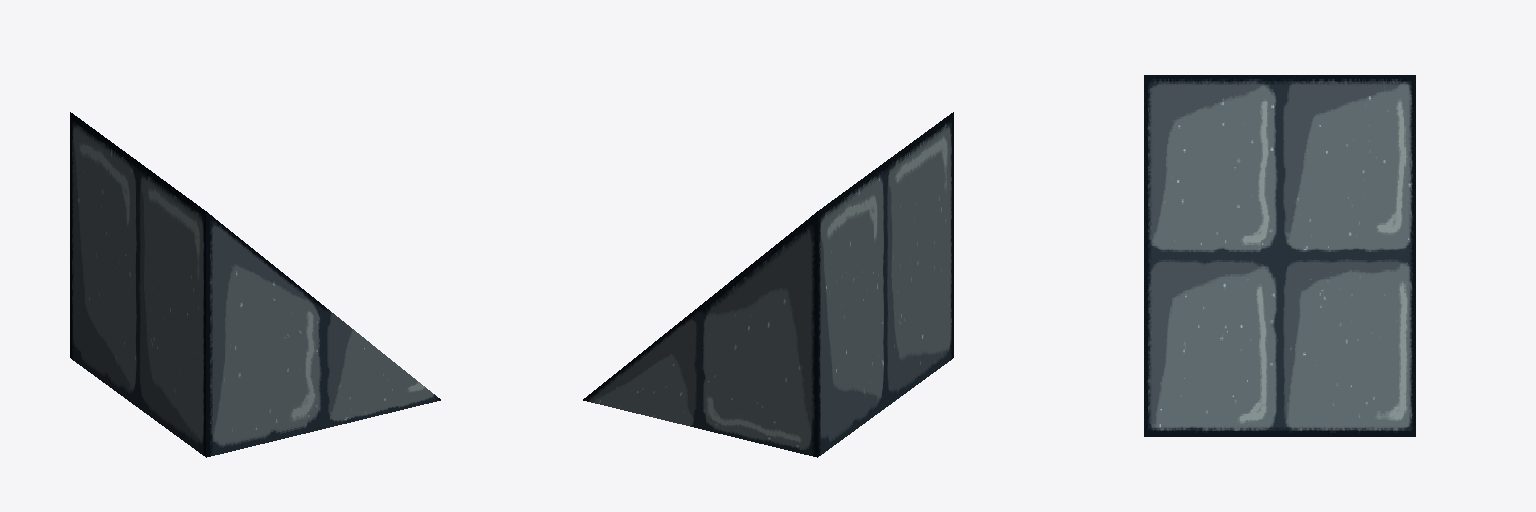
The picture shows the model from 3 angles: view 1: azimuth 30°, elevation 25°; view 2: azimuth 150°, elevation 25°; view 3: azimuth 270°, elevation 25°; orthographic projection.
Visible parts, largest first — view 1: 4_stone; view 2: 4_stone; view 3: 4_stone.
Boxes of the visible parts, x1,y1,x2,y2 form: 4_stone: [70, 112, 440, 457]; 4_stone: [583, 112, 953, 457]; 4_stone: [1144, 75, 1415, 436].
Bounding box in the file's own units: 1 × 1 × 1.
Materials: 1 (1 with a texture image).